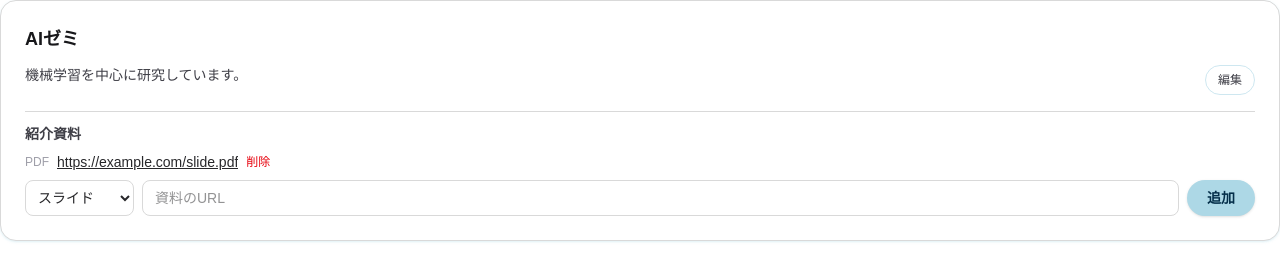
Test: TeacherSeminarView › deletes a material
This screenshot has width=1280, height=260.
Step 1. Click the button "削除" → (258, 162), box [246,154,270,170]
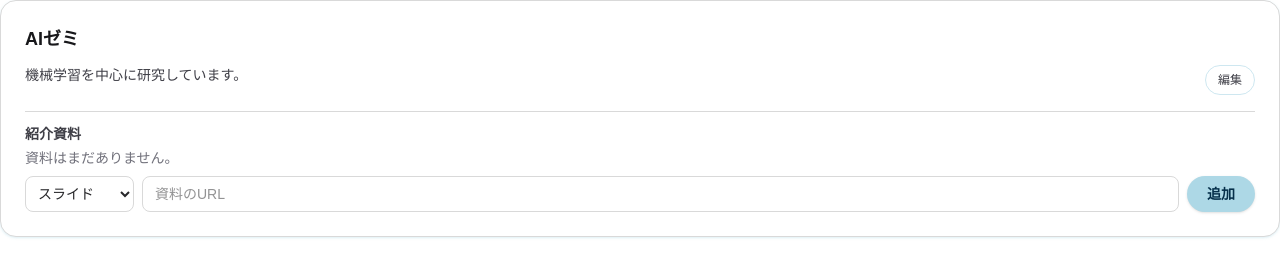
Now the text "資料はまだありません。" is shown, box [25,150,179,166]
